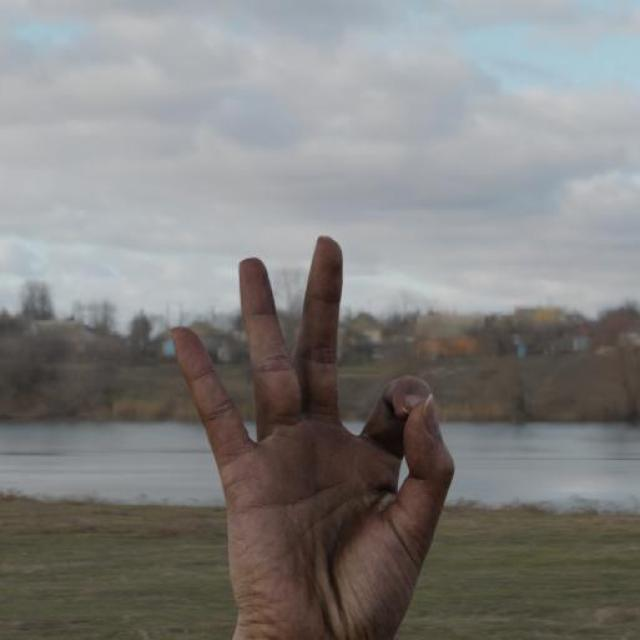F: (165, 231, 460, 640)
